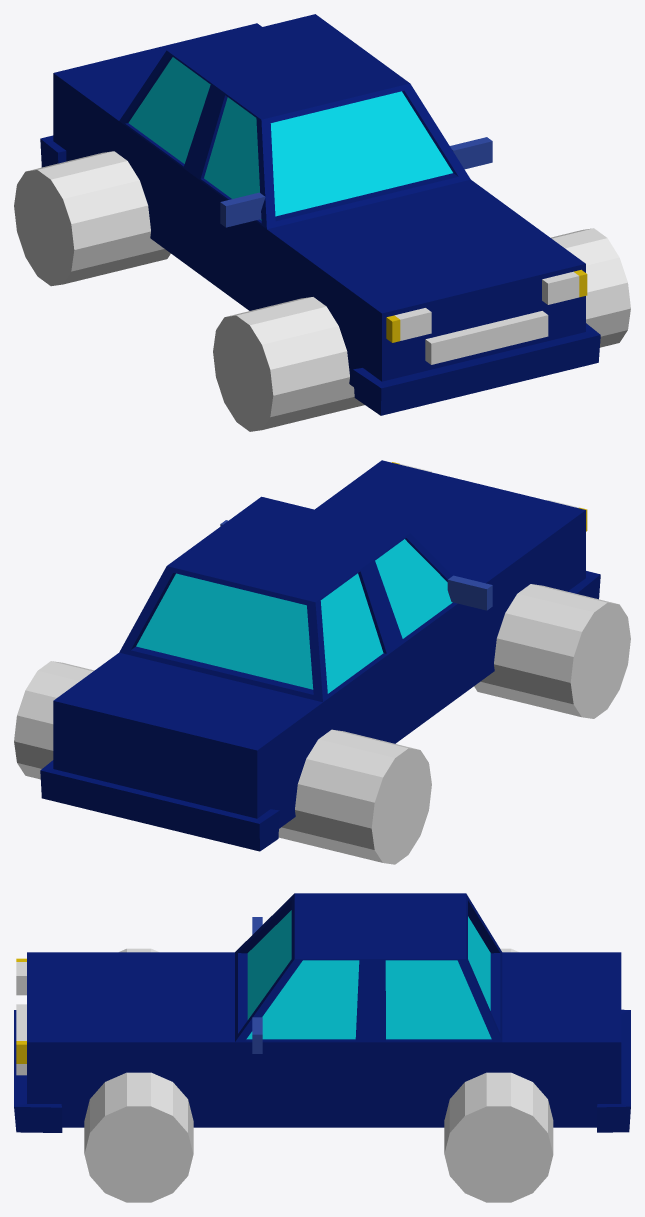
File: car blue.fbx
3 renders of one model, top to bottom at view 1: azimuth 30°, elevation 25°; view 2: azimuth 150°, elevation 25°; view 3: azimuth 270°, elevation 25°, orthographic. The views are drawn at different scales.
Visible parts, largest first — view 1: Cube, Cylinder.001, Cylinder.002, Cube.003, Cube.001, Cube.002; view 2: Cube, Cylinder.002, Cylinder.001, Cube.002; view 3: Cube, Cylinder.001, Cylinder.002, Cube.001, Cube.002.
Boxes of the visible parts, left/top/right/bottom form: Cube: left=40, top=14, right=600, bottom=415; Cylinder.001: left=213, top=228, right=630, bottom=431; Cylinder.002: left=14, top=151, right=170, bottom=286; Cube.003: left=425, top=311, right=548, bottom=364; Cube.001: left=386, top=269, right=587, bottom=342; Cube.002: left=220, top=137, right=492, bottom=227; Cube: left=40, top=460, right=600, bottom=851; Cylinder.002: left=14, top=661, right=431, bottom=864; Cylinder.001: left=474, top=584, right=630, bottom=718; Cube.002: left=220, top=520, right=492, bottom=610; Cube: left=14, top=893, right=630, bottom=1132; Cylinder.001: left=84, top=948, right=193, bottom=1202; Cylinder.002: left=444, top=948, right=553, bottom=1202; Cube.001: left=16, top=958, right=26, bottom=1063; Cube.002: left=252, top=917, right=262, bottom=1053.
Bounding box in the file's own units: 685 × 400 × 1131.
